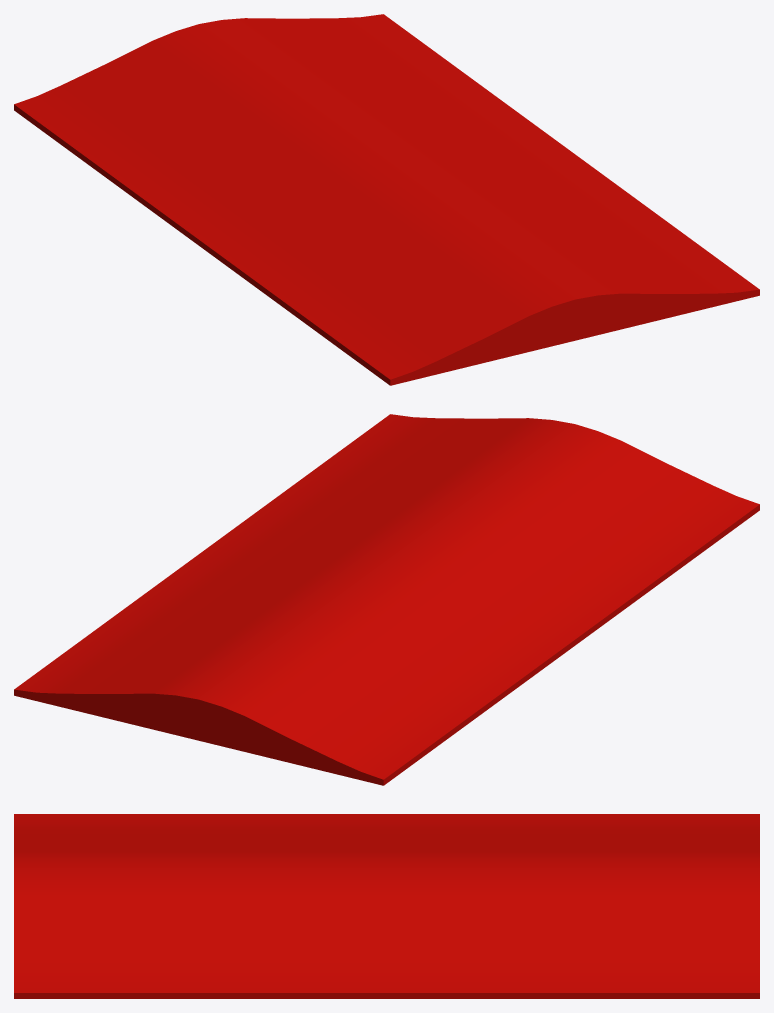
3 renders of one model, top to bottom at view 1: azimuth 30°, elevation 25°; view 2: azimuth 150°, elevation 25°; view 3: azimuth 270°, elevation 25°, orthographic.
Visible parts, largest first — view 1: AV_bump_wave_35_BumpWave; view 2: AV_bump_wave_35_BumpWave; view 3: AV_bump_wave_35_BumpWave.
Part boxes in pixels (box(x1,y1,x2,y2)): AV_bump_wave_35_BumpWave: box(14, 14, 759, 385); AV_bump_wave_35_BumpWave: box(14, 414, 759, 785); AV_bump_wave_35_BumpWave: box(14, 814, 759, 998).
Bounding box in the file's own units: 2.48 × 0.2643 × 4.38.
